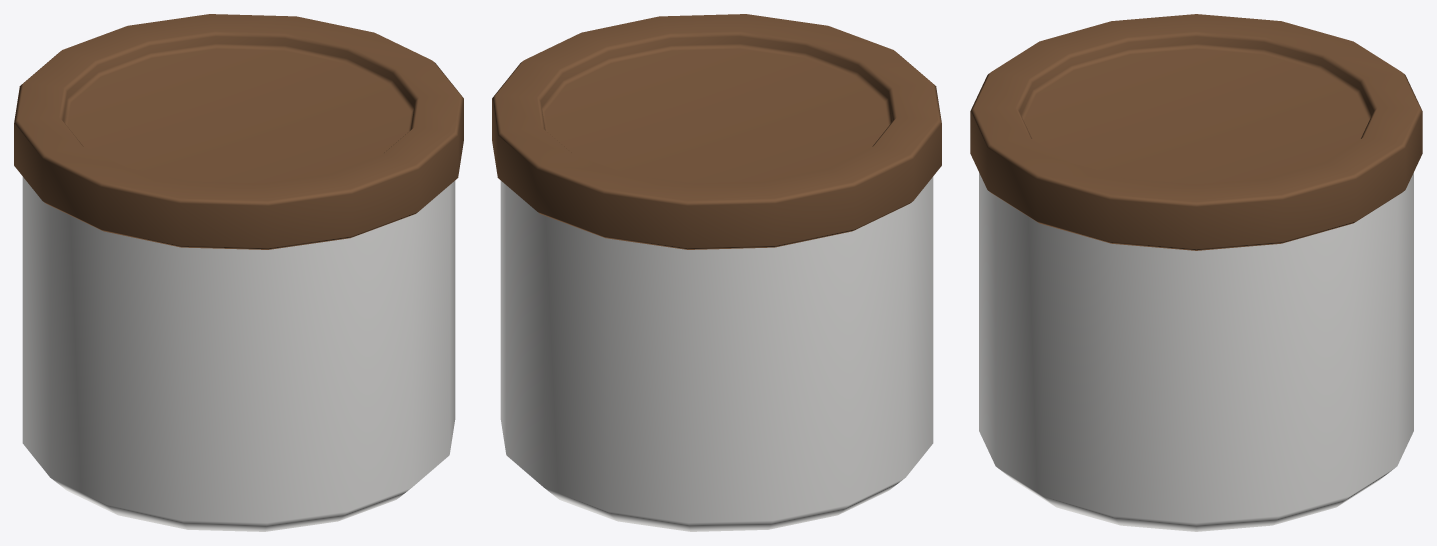
File: Jar_8.glb
3 renders of one model, left to right at view 1: azimuth 30°, elevation 25°; view 2: azimuth 150°, elevation 25°; view 3: azimuth 270°, elevation 25°, orthographic.
Parts seen in each view (by area): view 1: Jar_8; view 2: Jar_8; view 3: Jar_8.
Boxes of the visible parts, x1=… form: Jar_8: x1=14, y1=14, x2=463, y2=531; Jar_8: x1=492, y1=14, x2=941, y2=531; Jar_8: x1=970, y1=14, x2=1422, y2=531.
Bounding box in the file's own units: 0.2474 × 0.2053 × 0.2474.
2 materials, 2 textured.
